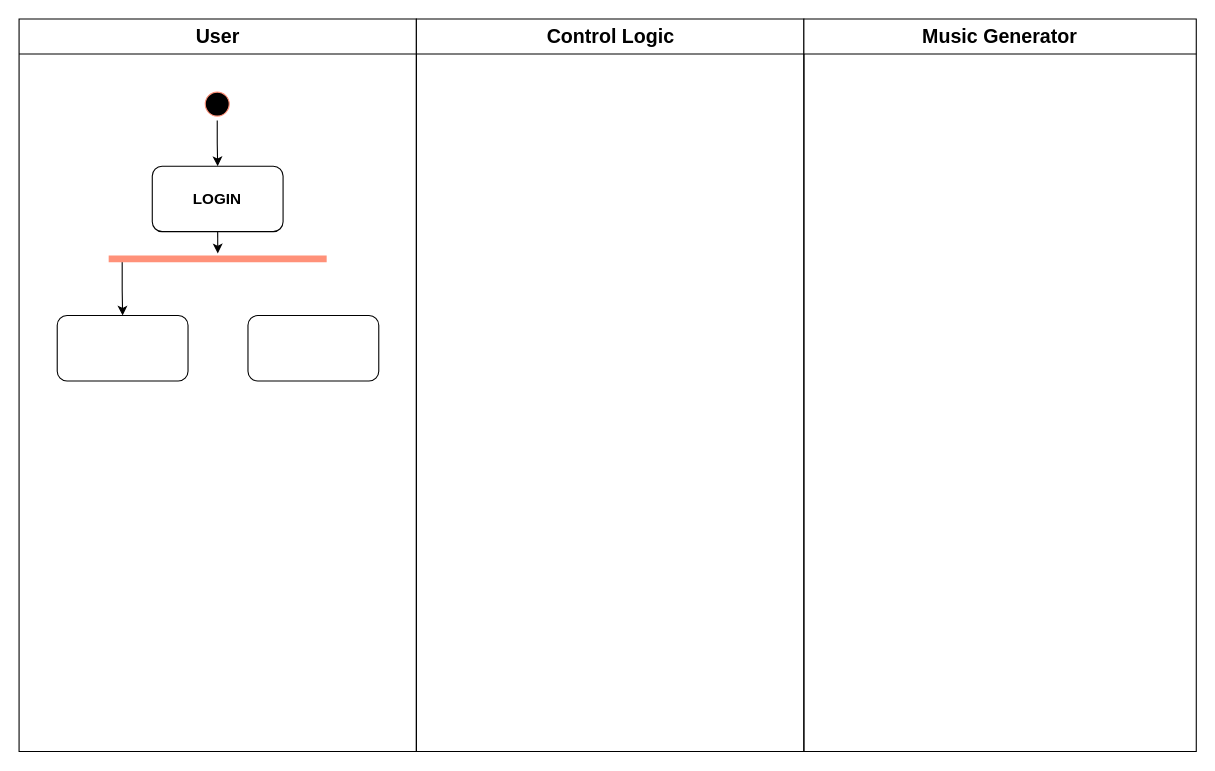
The diagram is 1215 pixels wide and 771 high, and some of its shapes have lost their labels. Each missing label, with the centre of its shape:
Guiding Music Selection: point 313,347
Music Collection Browsing: point 122,347
